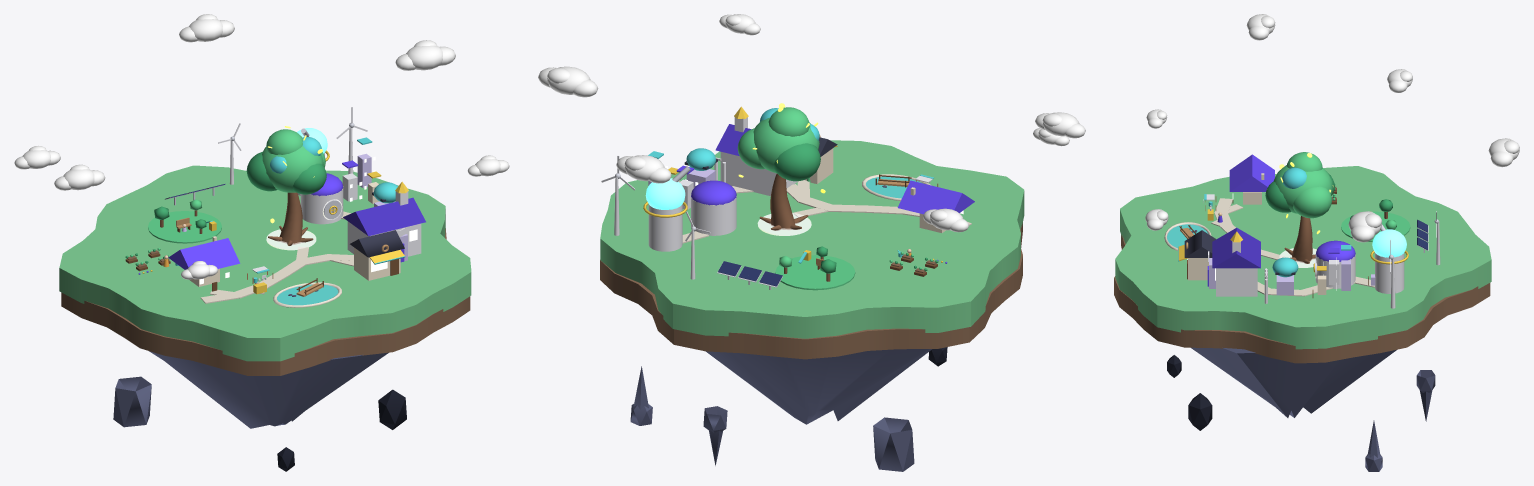
File: hero-island.glb
3 views of the same model, side by side, from view 1: azimuth 30°, elevation 25°; view 2: azimuth 150°, elevation 25°; view 3: azimuth 270°, elevation 25° (orthographic). The views are drawn at different scales.
Parts seen in each view (by area): view 1: Island_Base, Clouds, Money_Tree, School, Park, Bakery, House, Savings_Vault, Roads, Business_District, Pond, Wind_Turbines (+1 smaller); view 2: Island_Base, Money_Tree, Clouds, Financial_Observatory, Park, School, Savings_Vault, House, Roads, Library, Solar_Panels, Pond (+3 smaller); view 3: Island_Base, Money_Tree, Clouds, School, Financial_Observatory, House, Bakery, Roads, Savings_Vault, Business_District, Library, Park (+2 smaller).
Part boxes in pixels (<box>): Island_Base: <box>59,165,471,471</box>; Clouds: <box>14,14,509,279</box>; Money_Tree: <box>246,129,326,245</box>; School: <box>343,181,425,262</box>; Park: <box>148,199,221,243</box>; Bakery: <box>350,230,405,280</box>; House: <box>168,236,240,291</box>; Savings_Vault: <box>300,173,343,224</box>; Roads: <box>200,211,353,303</box>; Business_District: <box>342,137,381,203</box>; Pond: <box>273,282,341,307</box>; Wind_Turbines: <box>218,107,367,184</box>; Island_Base: <box>600,140,1024,471</box>; Money_Tree: <box>737,107,820,230</box>; Clouds: <box>538,14,1085,232</box>; Financial_Observatory: <box>643,166,690,251</box>; Park: <box>775,246,855,290</box>; School: <box>715,106,797,196</box>; Savings_Vault: <box>691,180,736,235</box>; House: <box>897,180,974,232</box>; Roads: <box>682,180,971,243</box>; Library: <box>684,148,725,188</box>; Solar_Panels: <box>717,261,782,289</box>; Pond: <box>862,174,931,200</box>; Island_Base: <box>1114,166,1491,471</box>; Money_Tree: <box>1265,152,1334,263</box>; Clouds: <box>1145,14,1519,242</box>; School: <box>1207,227,1260,296</box>; Financial_Observatory: <box>1368,224,1408,293</box>; House: <box>1229,154,1274,204</box>; Bakery: <box>1178,230,1216,280</box>; Roads: <box>1211,198,1374,296</box>; Savings_Vault: <box>1313,240,1355,288</box>; Business_District: <box>1312,245,1351,297</box>; Library: <box>1264,257,1298,303</box>; Park: <box>1341,199,1410,241</box>.
Bounding box in the file's own units: 28.2 × 19.19 × 23.36.
